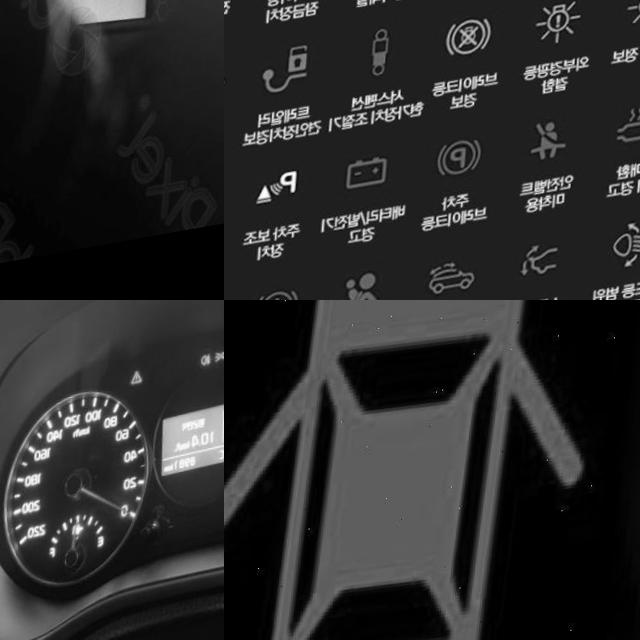Central Warning lamp: (136, 376, 149, 393)
FrontFogLight: (206, 362, 217, 377)
SideLamp: (219, 358, 224, 373)
